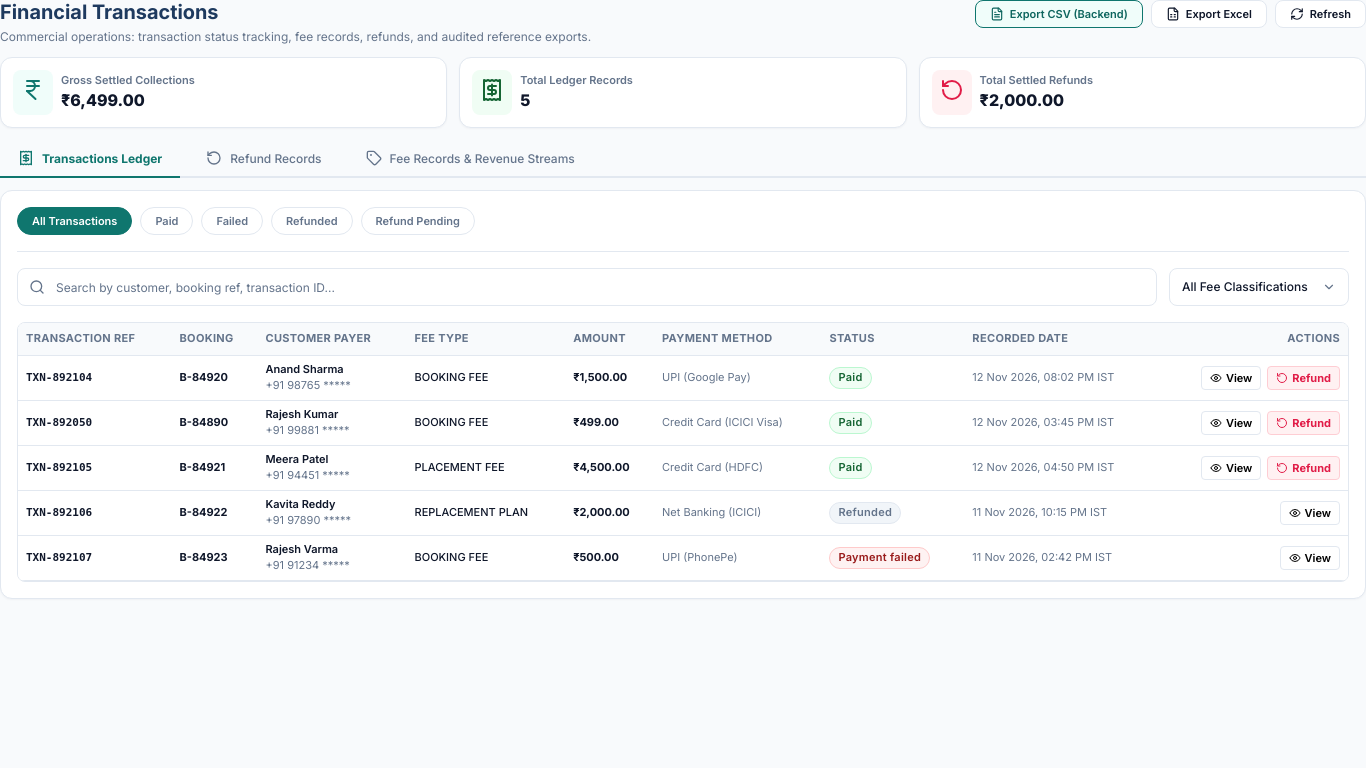
Test: Payment Transaction Details Modal — Action Buttons Verification › 2. "Verify Payment Status" Action & Permissions › executes verification workflow, compares status with gateway, and shows feedback banner
Note: Open a transaction
Click the button with aria-label "View": (683, 378) [18,356,1348,401]
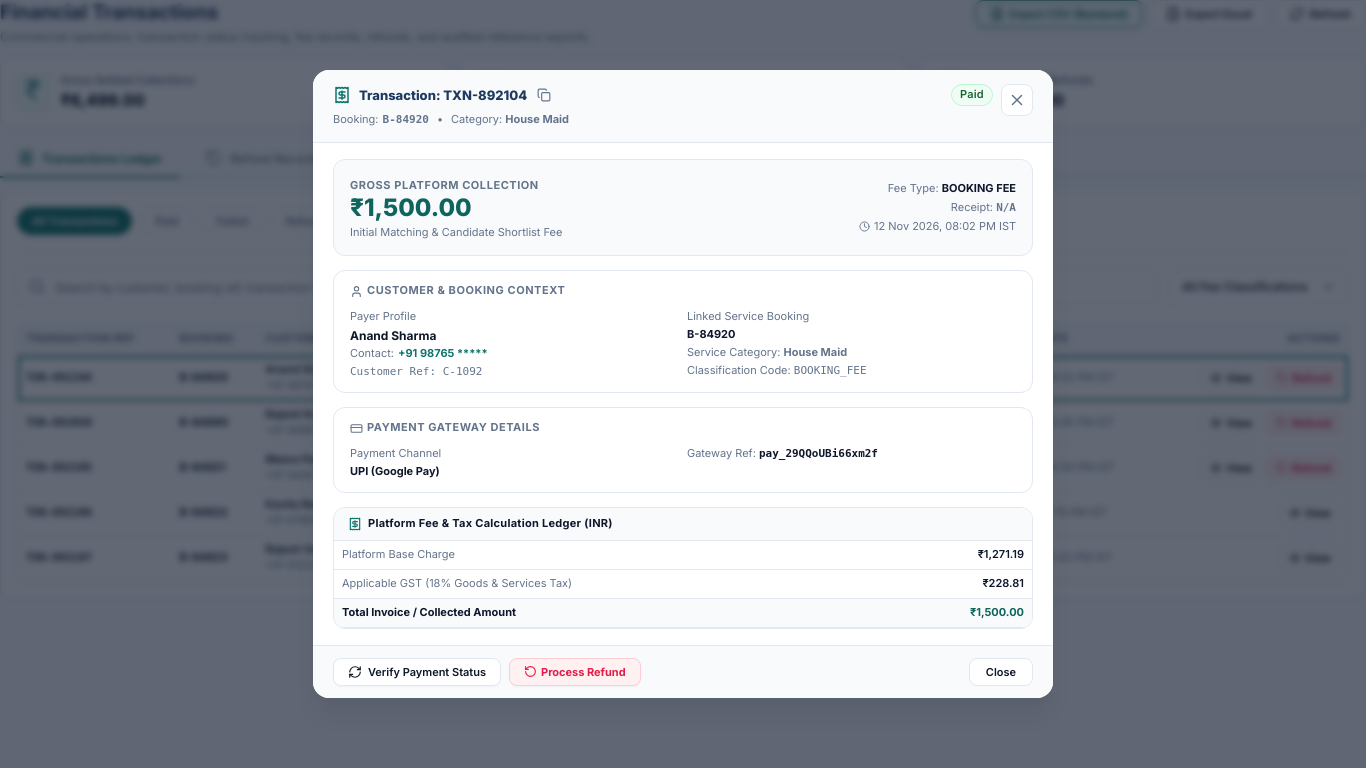
Note: Click Verify Payment Status
Click the button "Verify Payment Status": (417, 672) [333,658,501,686]
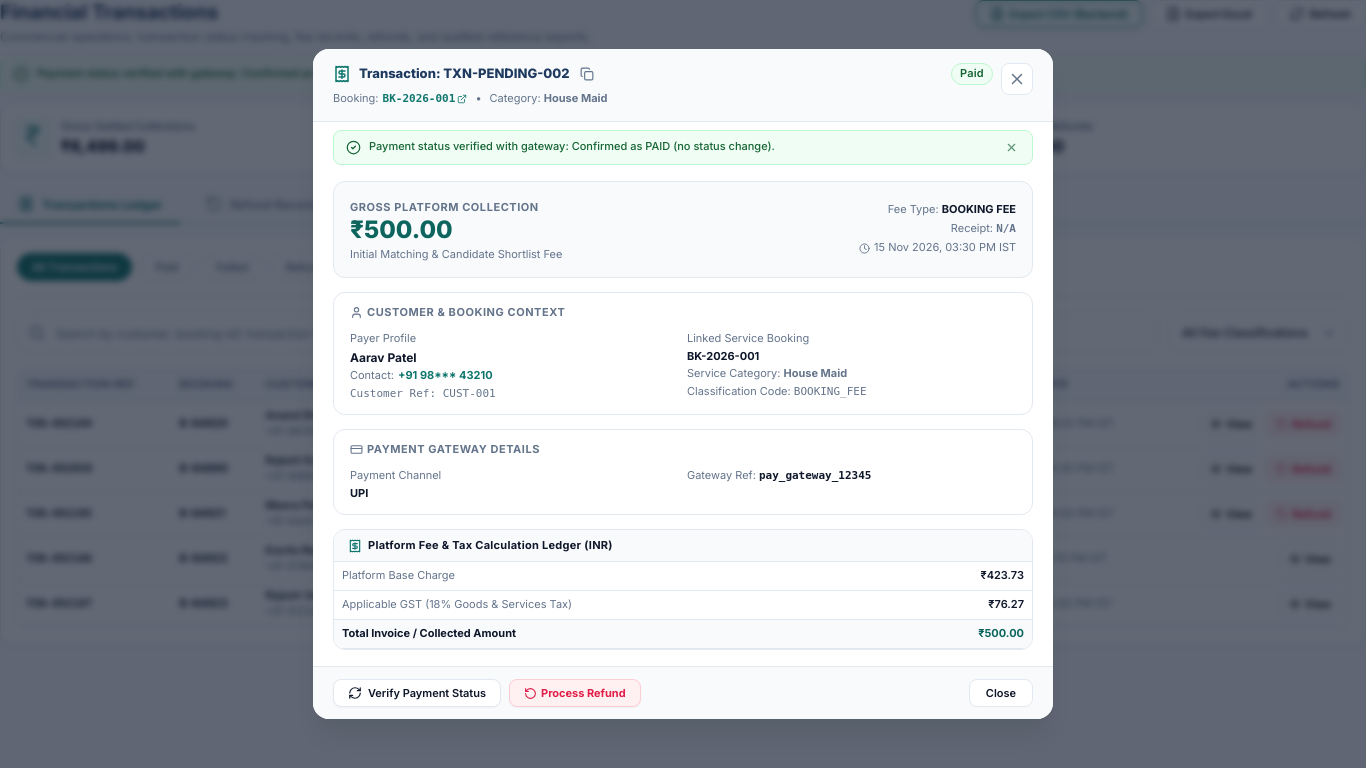
expect the message with test id "modal-feedback-banner" is shown: met, box [333,130,1033,165]
